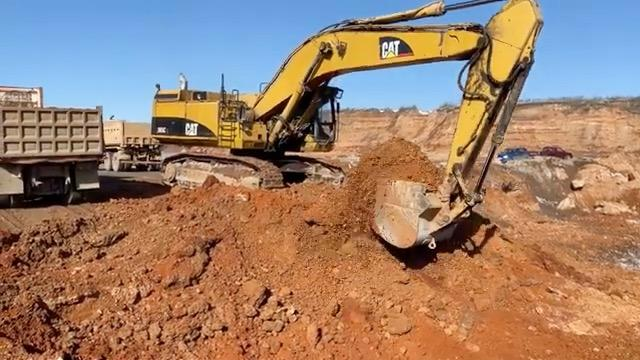excavator: (149, 0, 541, 250)
